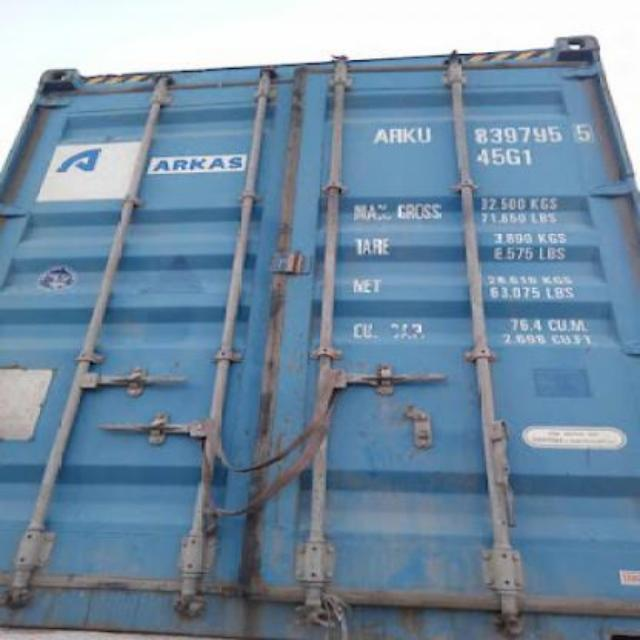3: (488, 127, 504, 143)
5: (548, 124, 562, 144), (576, 124, 590, 142)
7: (516, 126, 534, 144)
8: (476, 127, 488, 143)
9: (532, 124, 548, 146), (504, 126, 518, 144)
A: (374, 127, 388, 145)
K: (404, 127, 418, 143)
R: (388, 126, 402, 144)
U: (418, 126, 432, 144)
